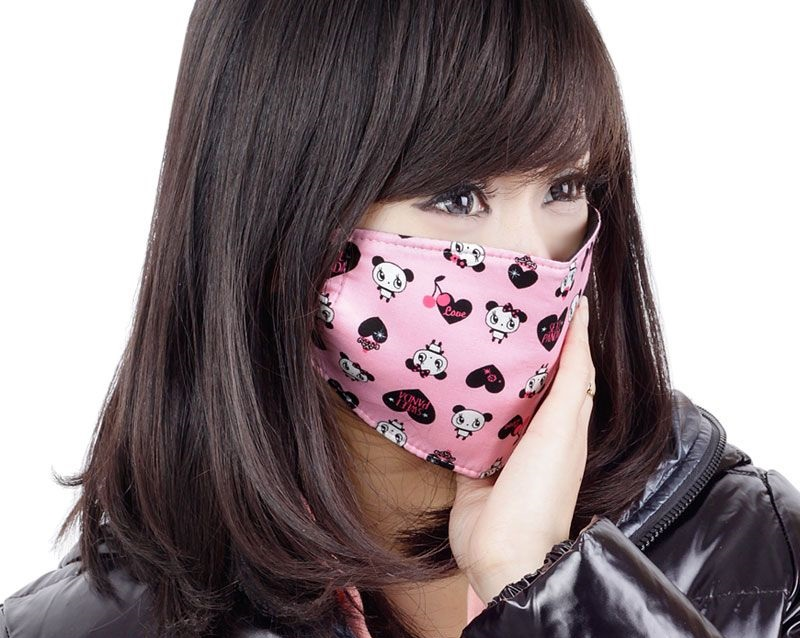face_mask: (328, 72, 599, 426)
